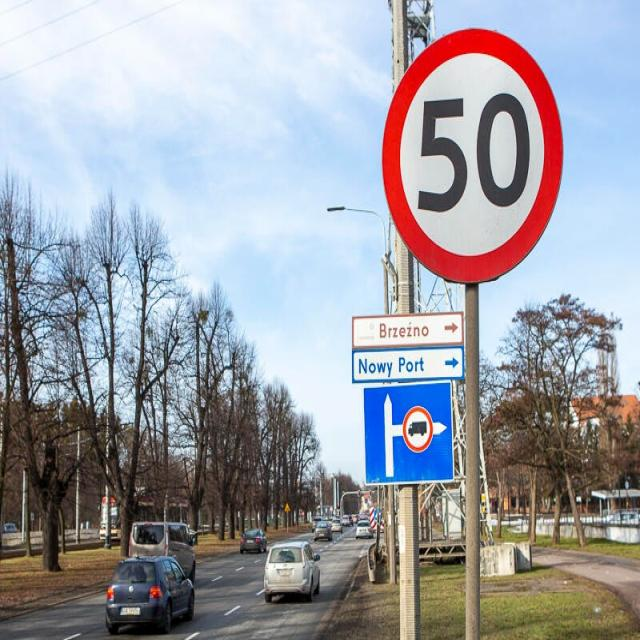Speed Limit -50-: (416, 89, 532, 225)
